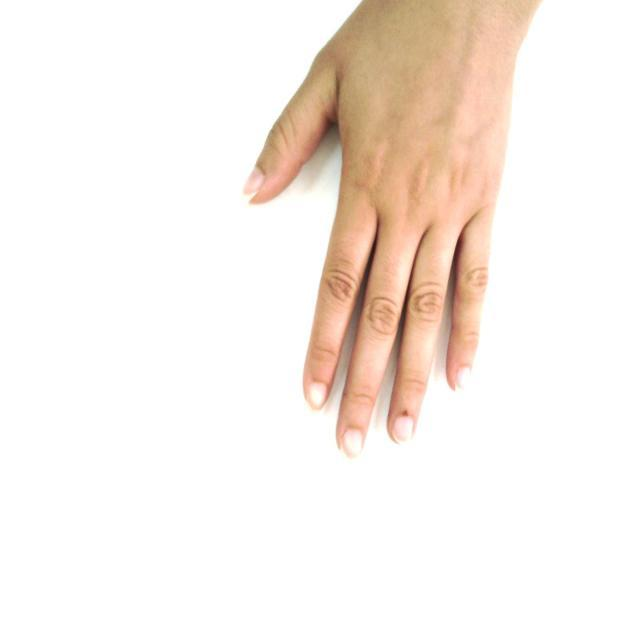Fingernail: (343, 429, 364, 462), (308, 382, 327, 411), (393, 416, 413, 443), (244, 168, 263, 196), (456, 368, 470, 397)
